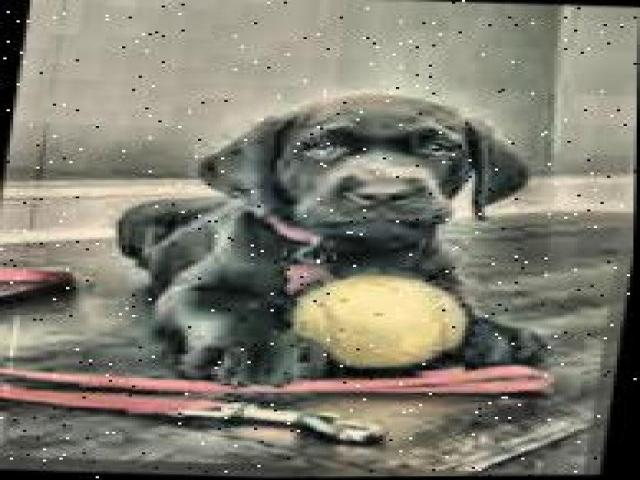tennis-ball: (291, 274, 470, 368)
